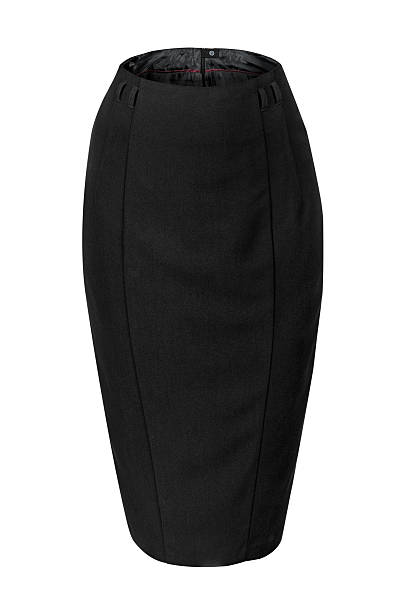F_tailored skirt: (65, 40, 354, 582)
